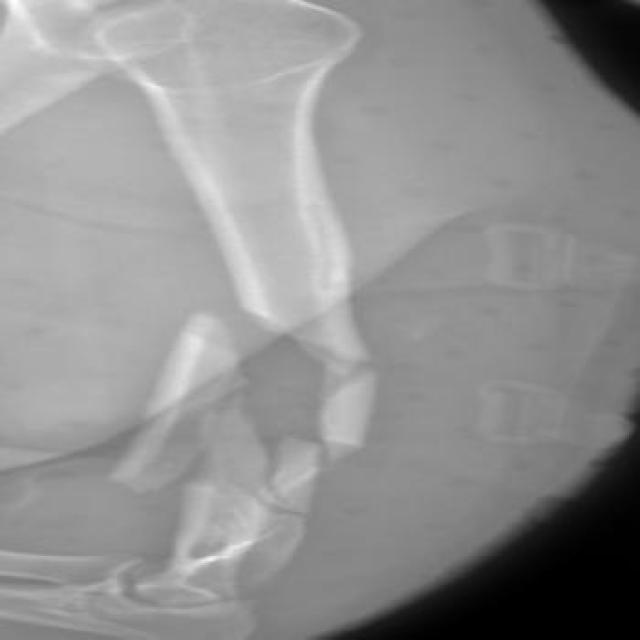Fracture: (148, 296, 416, 469)
